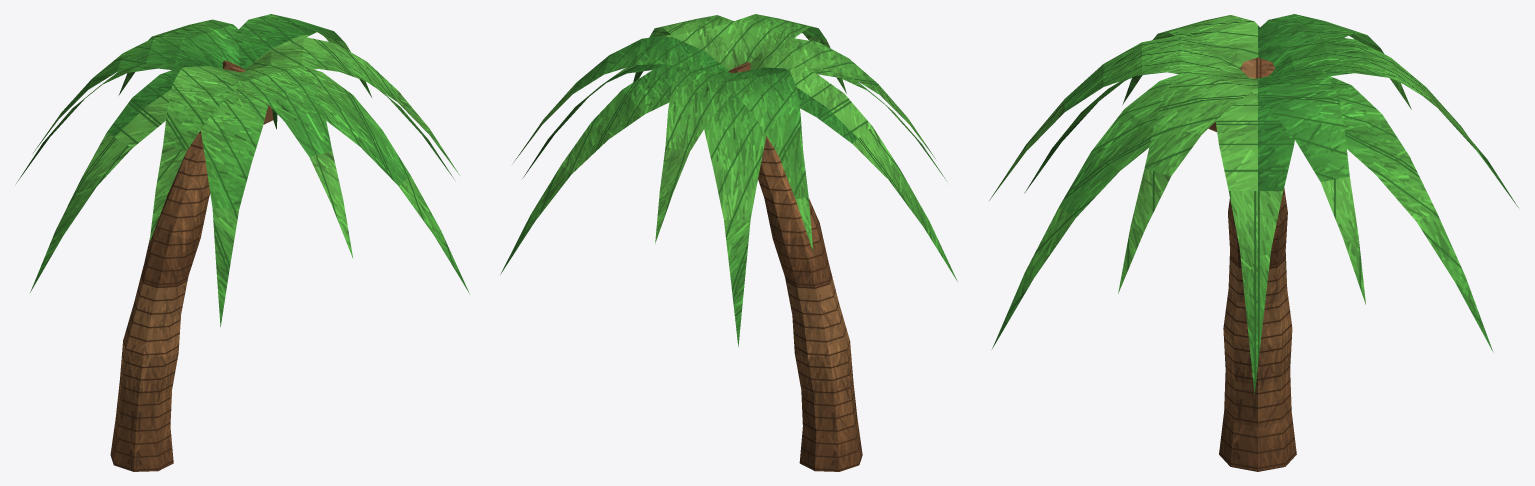
File: palmera.glb
3 renders of one model, left to right at view 1: azimuth 30°, elevation 25°; view 2: azimuth 150°, elevation 25°; view 3: azimuth 270°, elevation 25°, orthographic. The views are drawn at different scales.
Parts seen in each view (by area): view 1: Palmera_cuerpo; view 2: Palmera_cuerpo; view 3: Palmera_cuerpo.
Part boxes in pixels (box(x1,y1,x2,y2)): Palmera_cuerpo: box(16, 14, 469, 471); Palmera_cuerpo: box(500, 14, 957, 471); Palmera_cuerpo: box(989, 14, 1518, 471).
Size of the model in its own units: 16.02 by 13.65 by 14.36.
3 materials, 3 textured.
